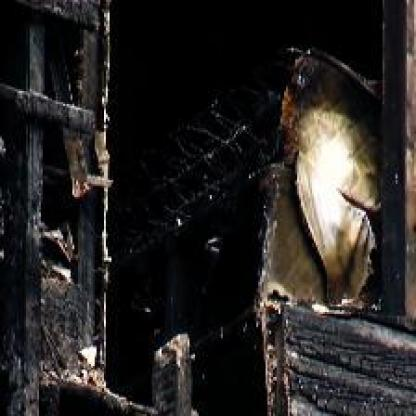other: (310, 143, 356, 231)
